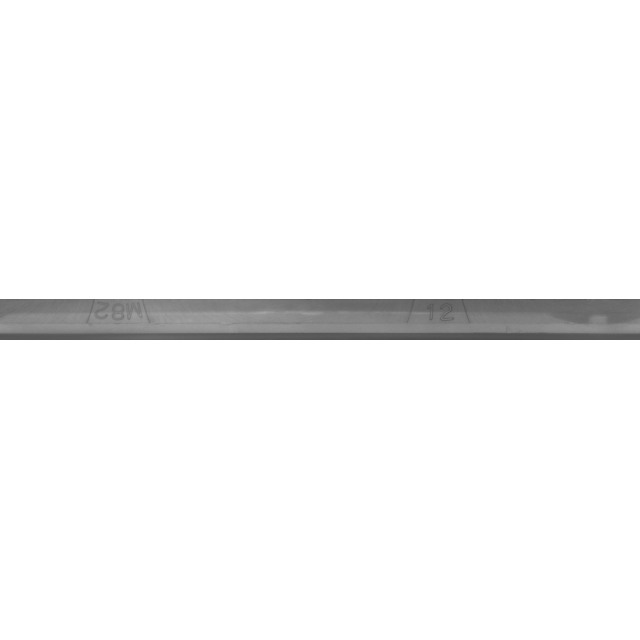mohao: (8, 270, 208, 370)
xuehao: (341, 270, 541, 370)
